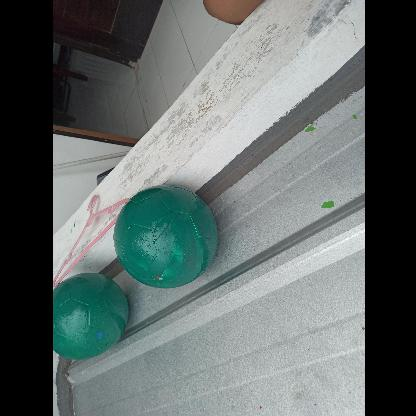green_ball: (112, 185, 218, 291)
